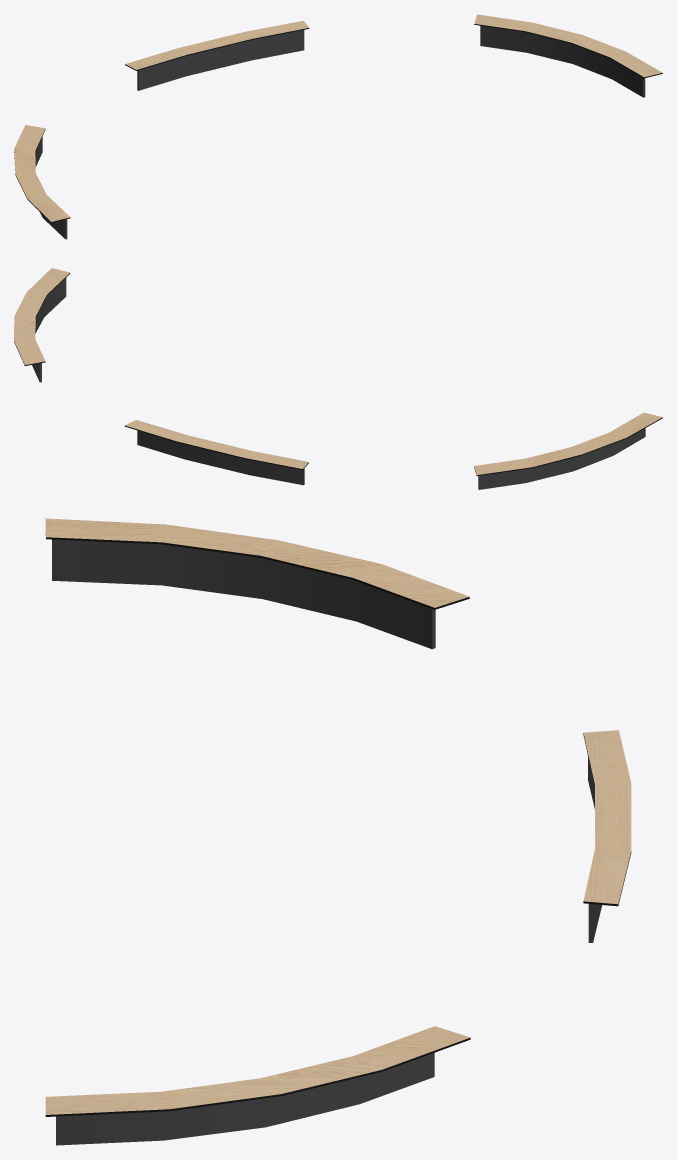
Rendered from Tables 4.FBX.
3 renders of one model, top to bottom at view 1: azimuth 30°, elevation 25°; view 2: azimuth 150°, elevation 25°; view 3: azimuth 270°, elevation 25°, orthographic. The views are drawn at different scales.
Visible parts, largest first — view 1: Tables 4; view 2: Tables 4; view 3: Tables 4.
Boxes of the visible parts, bbox=[...] form: Tables 4: bbox=[14, 14, 662, 239]; Tables 4: bbox=[14, 268, 662, 489]; Tables 4: bbox=[45, 518, 631, 1145].
Size of the model in its own units: 1921 by 67.71 by 797.
Materials: 3 (2 with a texture image).
